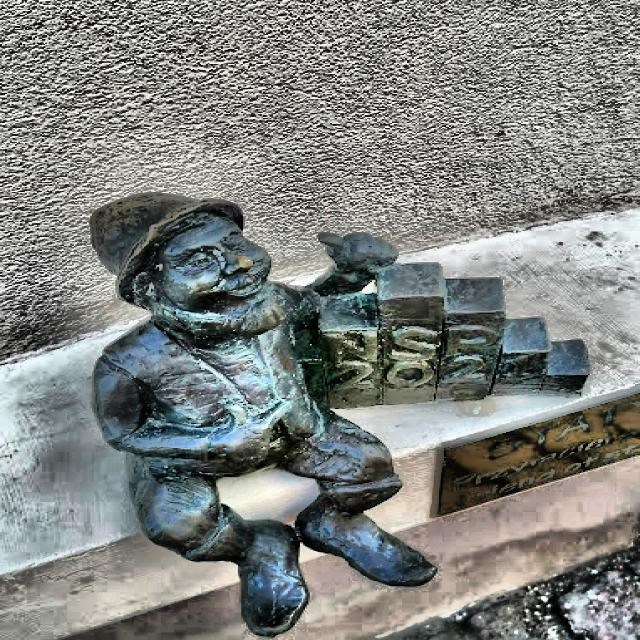Statyslaw: (90, 193, 589, 636)
